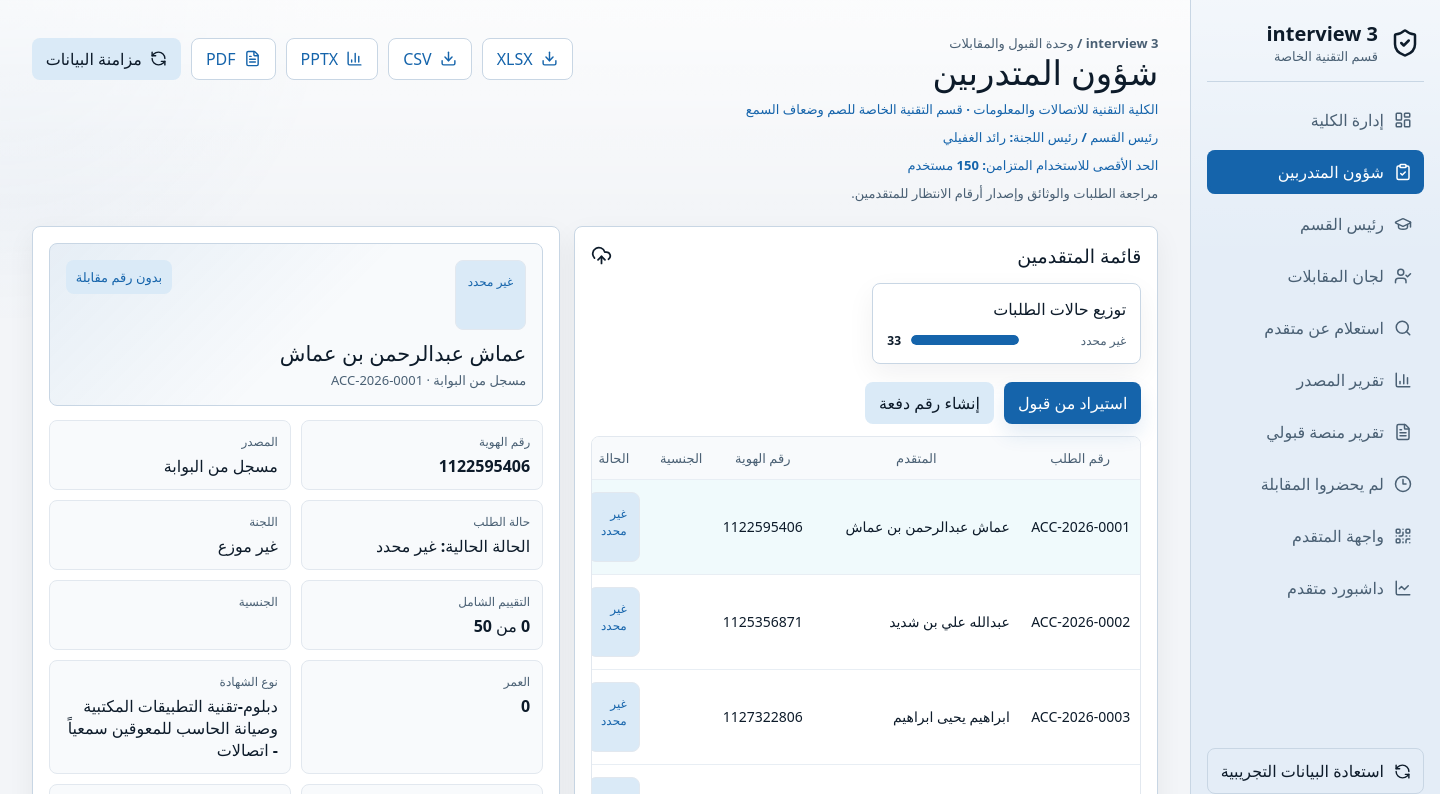
it: Interview management system › shows visual analytics in the college dashboard
The image size is (1440, 794).
Click the button "إدارة الكلية" at (1316, 120), box [1207,98,1424,142]
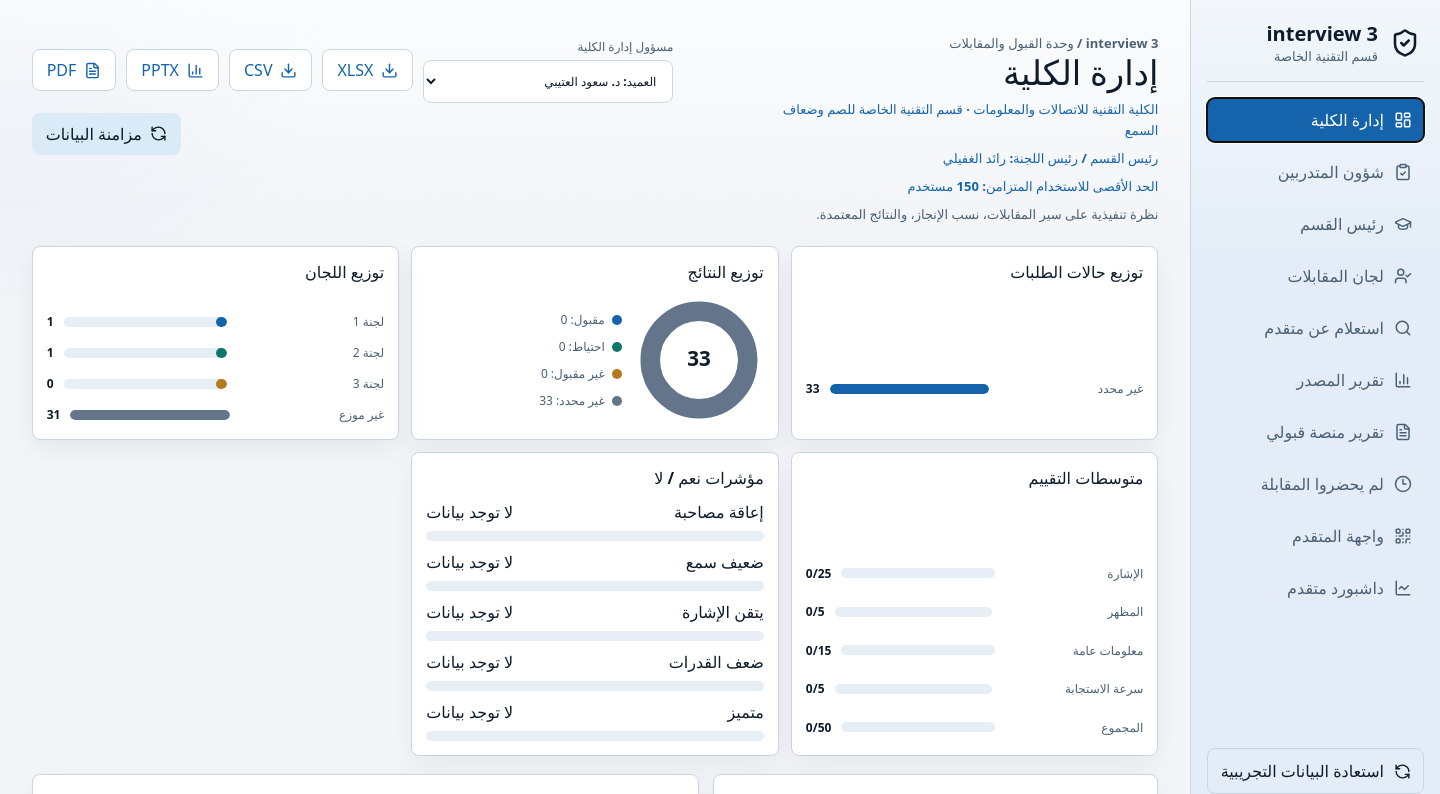
Now the element named "الرسوم والمؤشرات" is shown, box [32,246,1158,756]
Now the heading "توزيع النتائج" is shown, box [688,262,764,284]
Now the heading "متوسطات التقييم" is shown, box [1028,468,1143,490]
